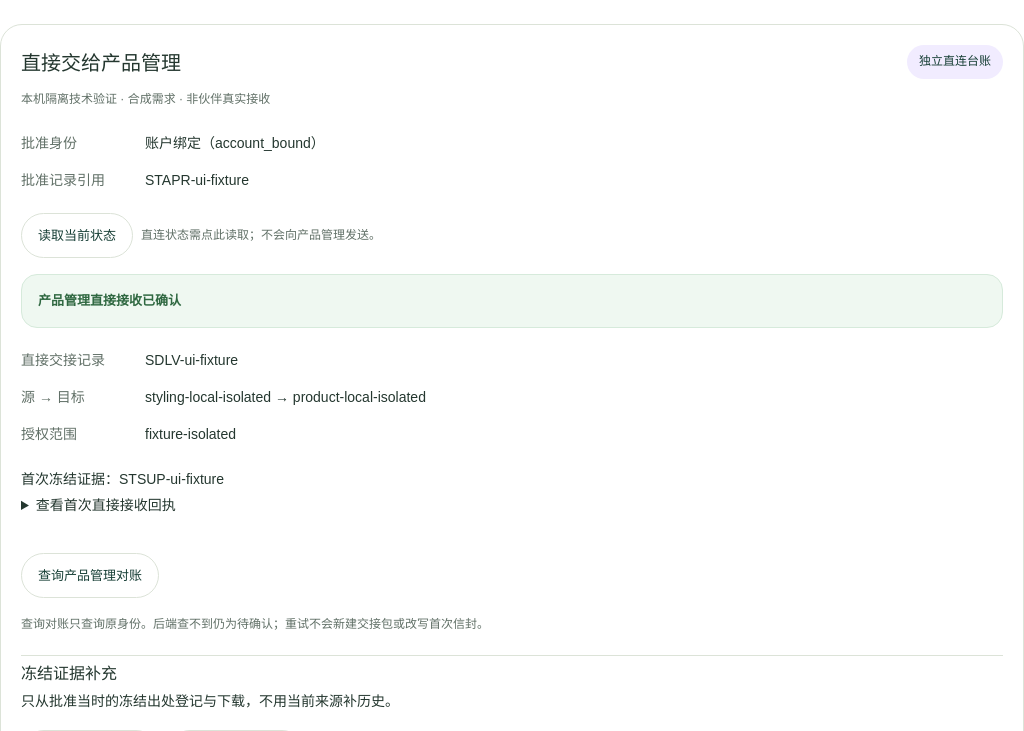
Test: direct management panel › a current read cannot silently downgrade a stable received receipt
Expected: the text "产品管理直接接收已确认" is shown, [38,293,181,308]
Click the button "读取当前状态".
click(77, 236)  # box [21,213,133,258]
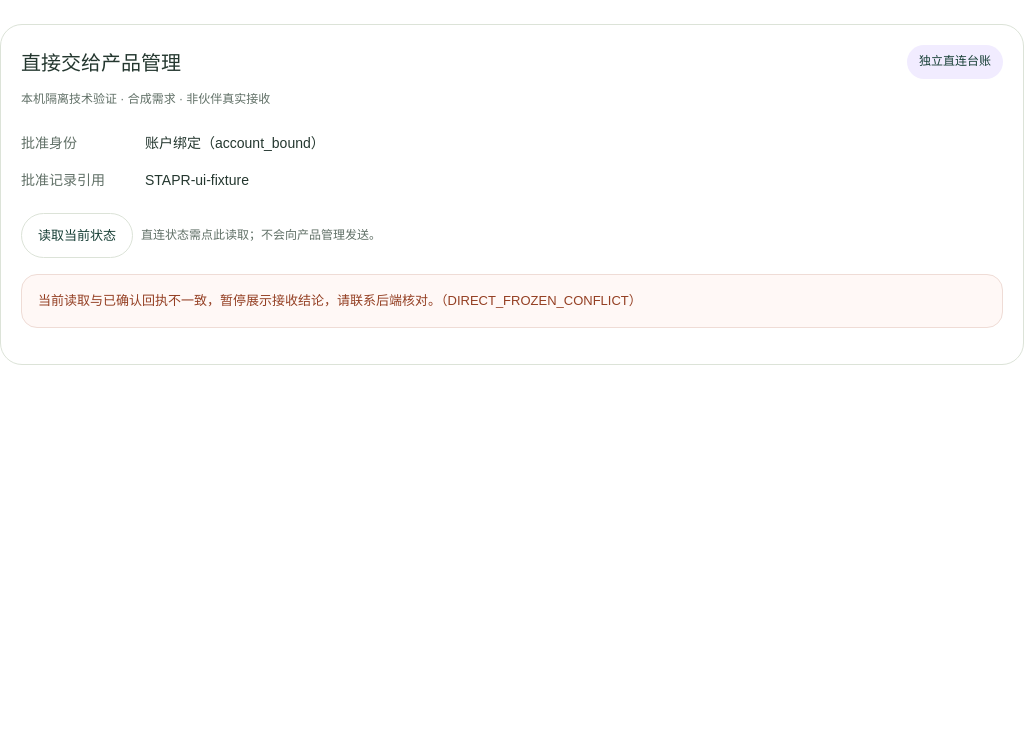
Result: the message shows "DIRECT_FROZEN_CONFLICT" at [38,293,642,308]
